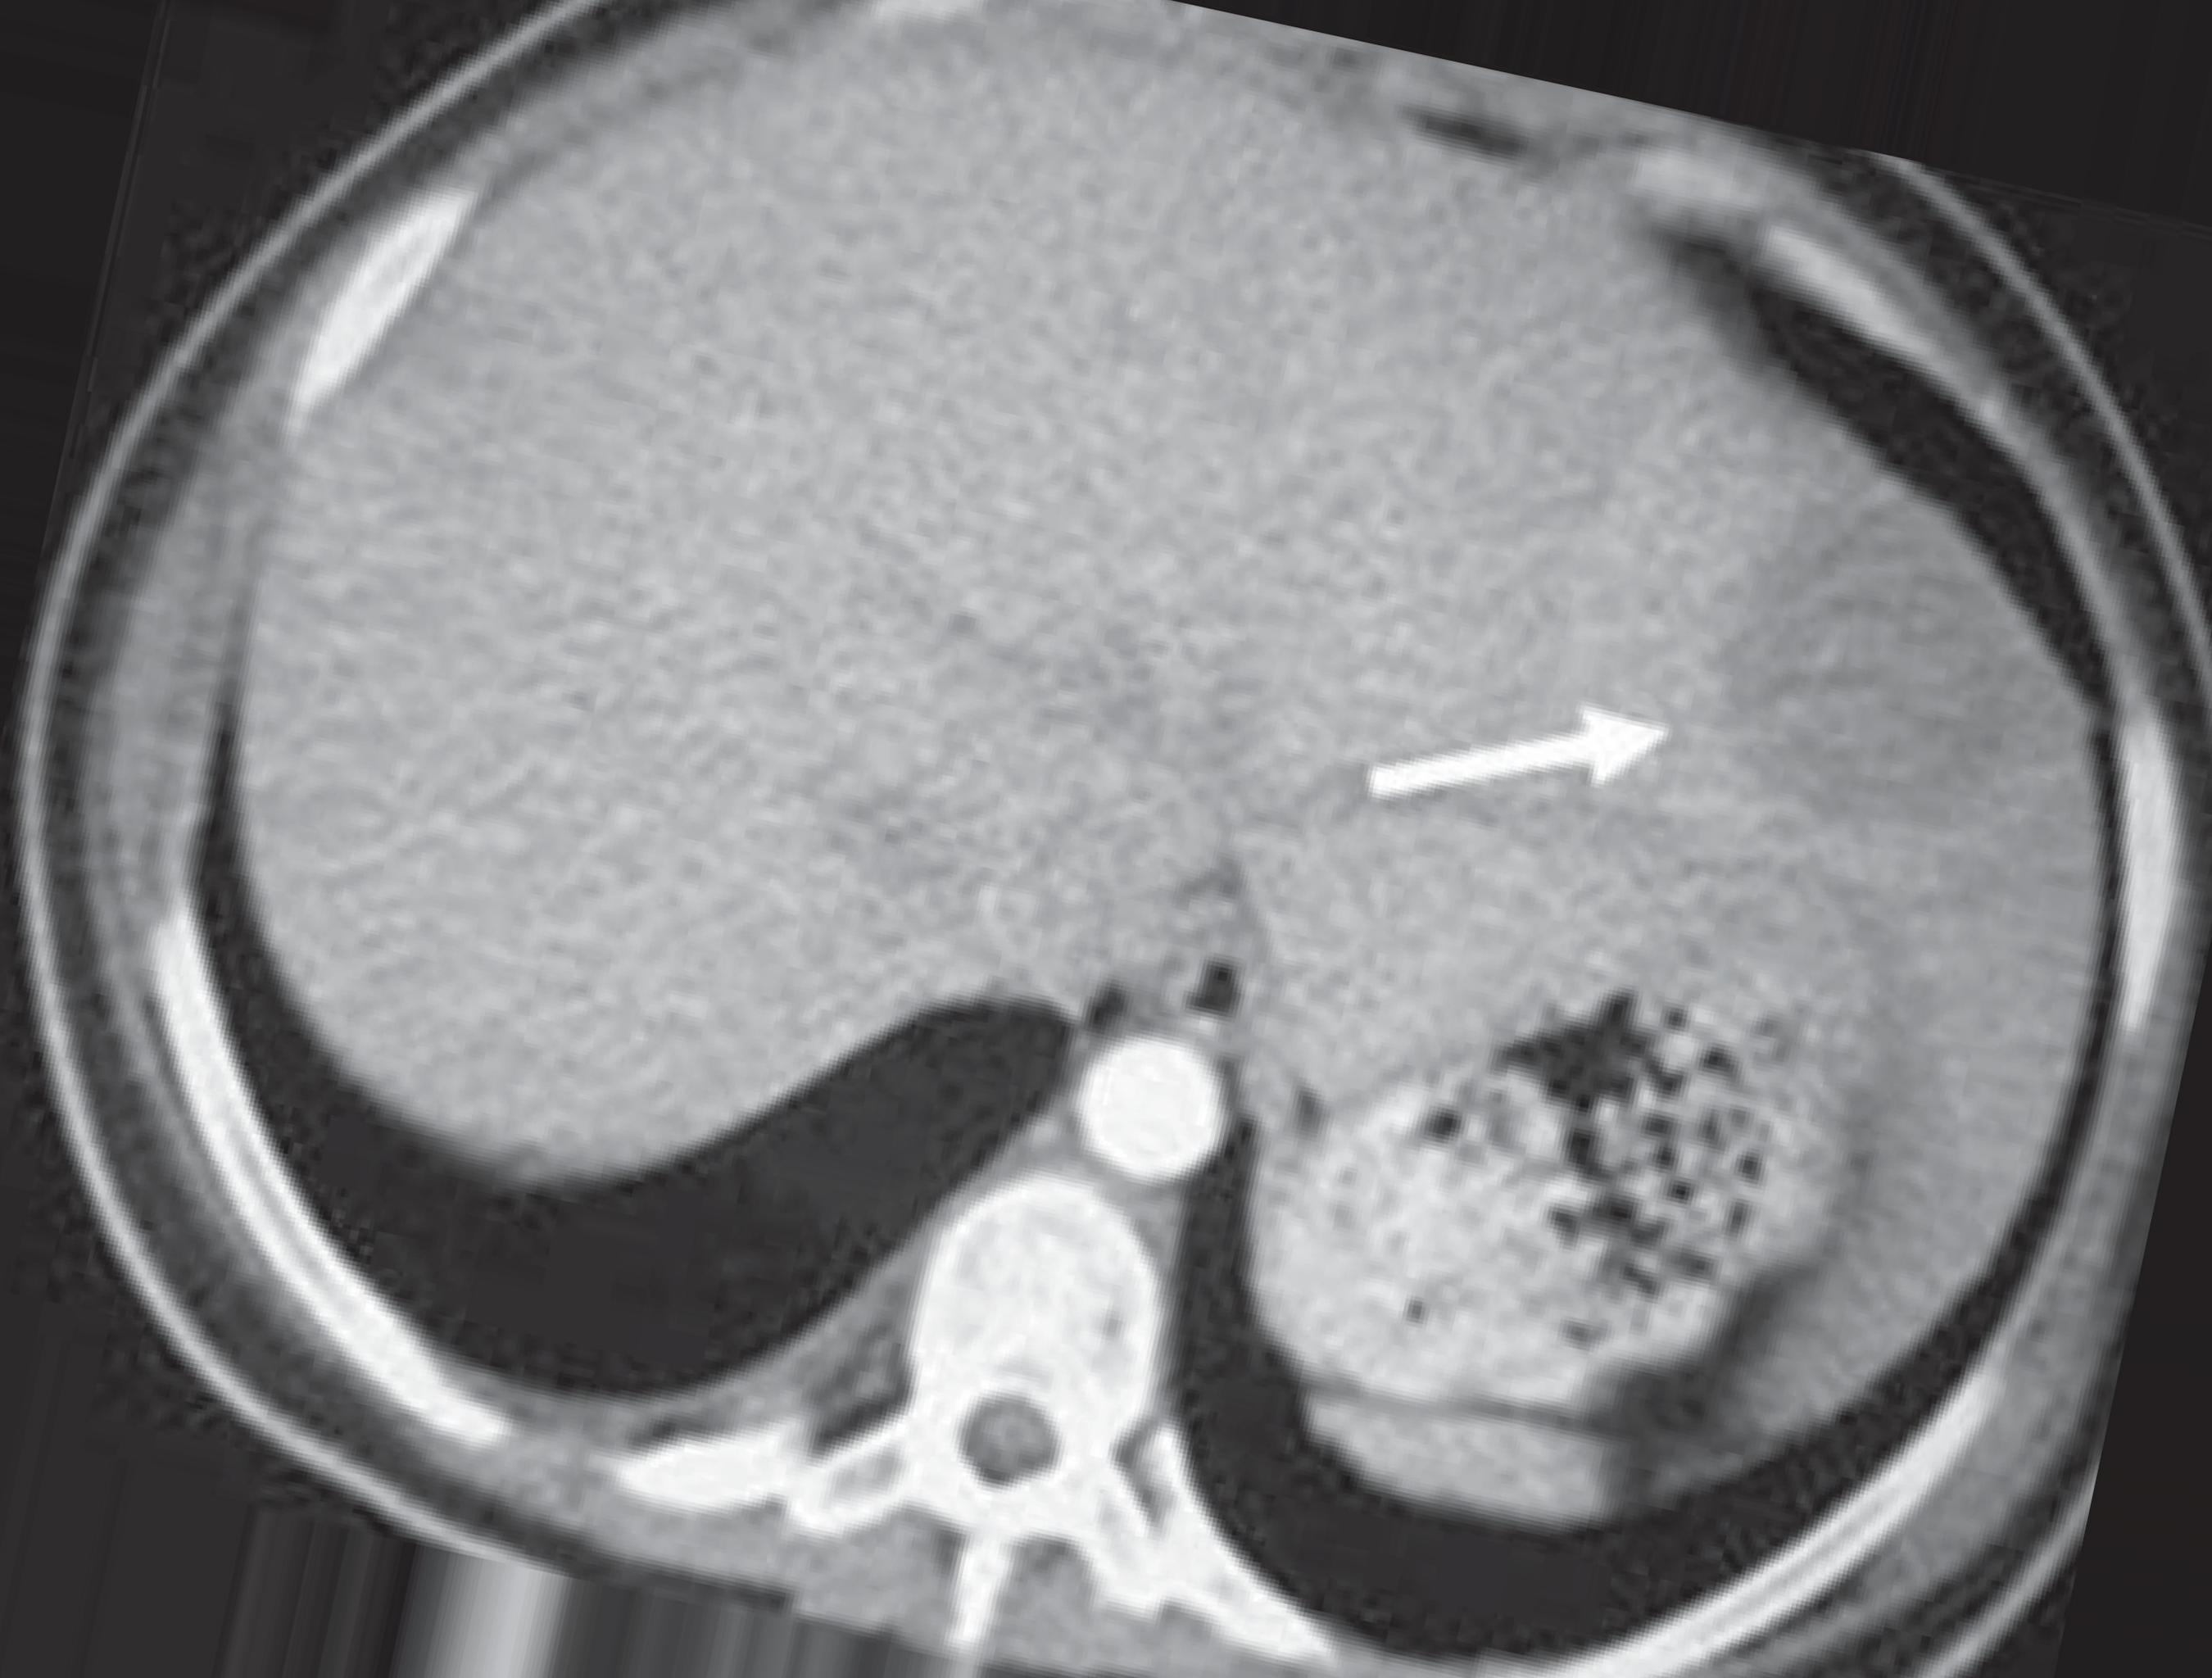anomaly: (1678, 485, 2087, 851)
